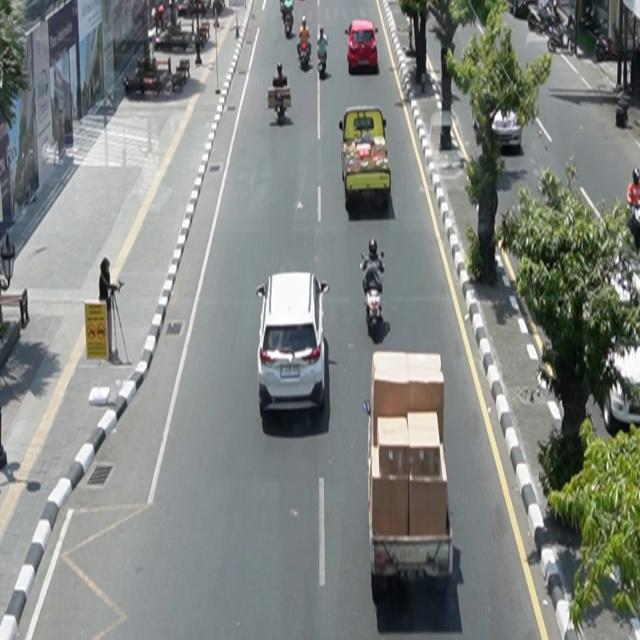car: (257, 271, 330, 418), (345, 19, 380, 75)
truck: (364, 350, 454, 604)
